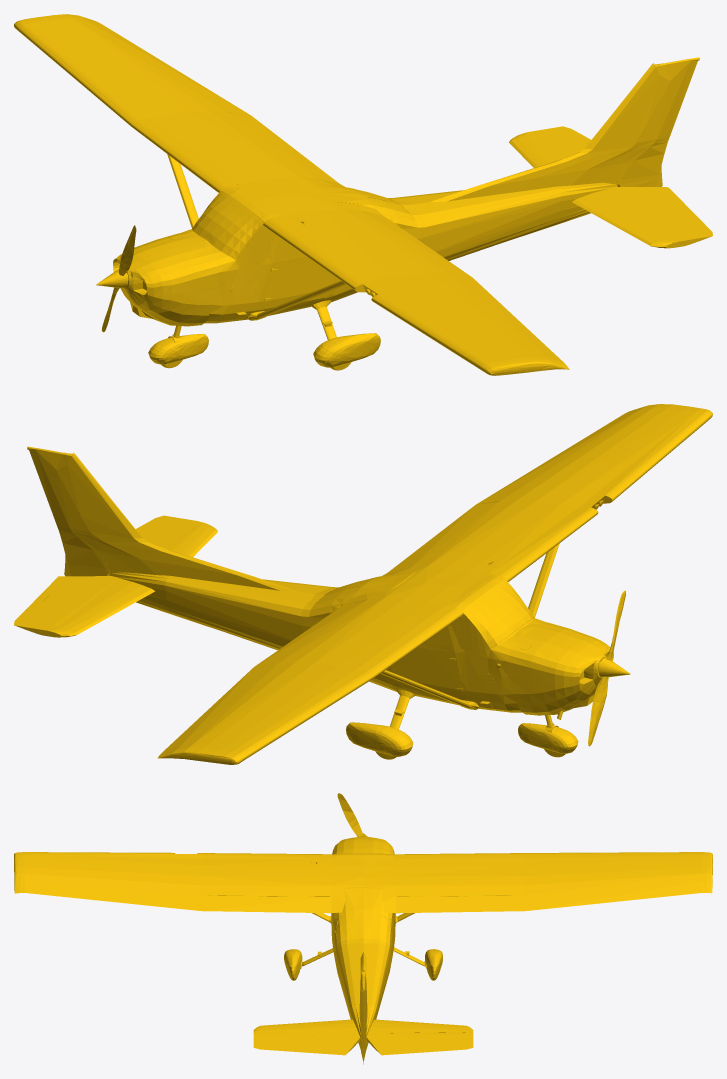
3 views of the same model, one above another, from view 1: azimuth 30°, elevation 25°; view 2: azimuth 150°, elevation 25°; view 3: azimuth 270°, elevation 25° (orthographic). The views are drawn at different scales.
Parts seen in each view (by area): view 1: C172_Body, C172_Propeller; view 2: C172_Body, C172_Propeller; view 3: C172_Body.
Part boxes in pixels (x1,y1,x2,y2): C172_Body: [14, 14, 712, 375]; C172_Propeller: [96, 225, 136, 332]; C172_Body: [14, 404, 712, 764]; C172_Propeller: [588, 590, 630, 746]; C172_Body: [14, 836, 712, 1064].
Bounding box in the file's own units: 8.23 × 2.43 × 11.27.
